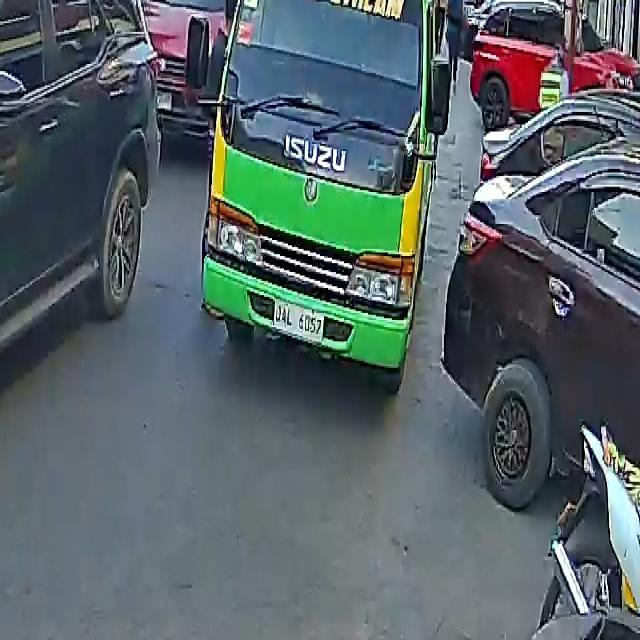car: (0, 0, 183, 487), (445, 106, 640, 517), (135, 0, 299, 123), (464, 0, 640, 114)
